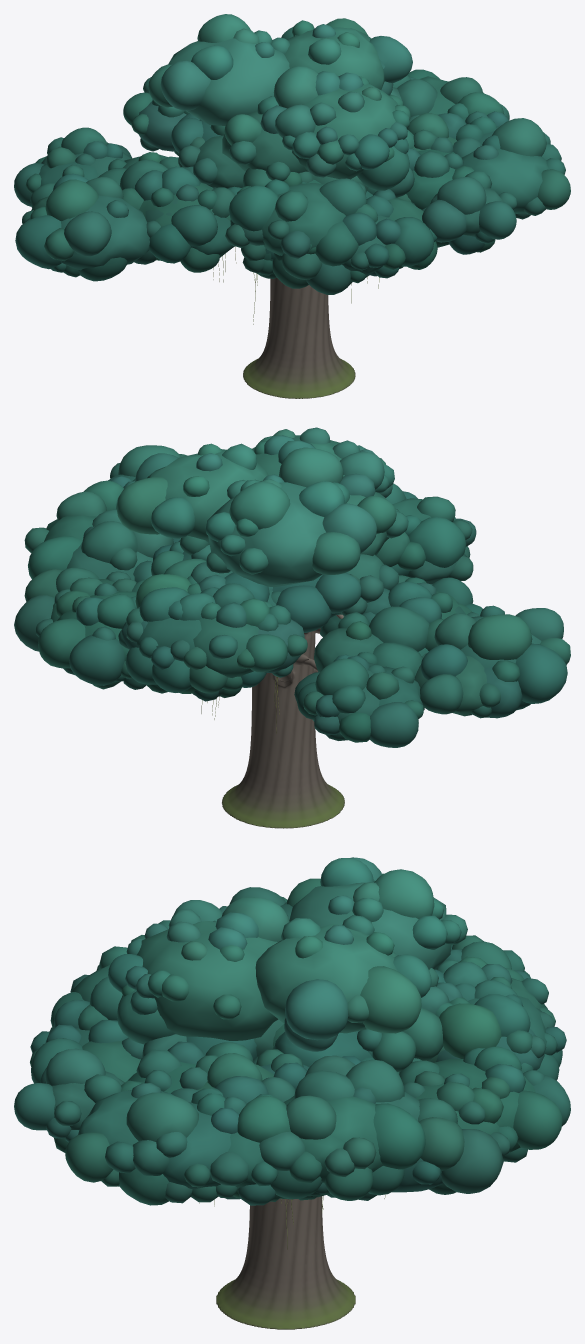
File: arvore-mae-r0.glb
3 views of the same model, one above another, from view 1: azimuth 30°, elevation 25°; view 2: azimuth 150°, elevation 25°; view 3: azimuth 270°, elevation 25° (orthographic). The views are drawn at different scales.
Visible parts, largest first — view 1: copa_mae, TRONCO_MAE_RAIZ; view 2: copa_mae, TRONCO_MAE_RAIZ; view 3: copa_mae, TRONCO_MAE_RAIZ.
Boxes of the visible parts, box(x1,y1,x2,y2) form: copa_mae: box(14, 14, 570, 294); TRONCO_MAE_RAIZ: box(213, 246, 379, 398); copa_mae: box(14, 427, 570, 747); TRONCO_MAE_RAIZ: box(201, 614, 344, 828); copa_mae: box(14, 857, 570, 1205); TRONCO_MAE_RAIZ: box(199, 1195, 385, 1329).
Size of the model in its own units: 71.62 by 47.26 by 57.88.
